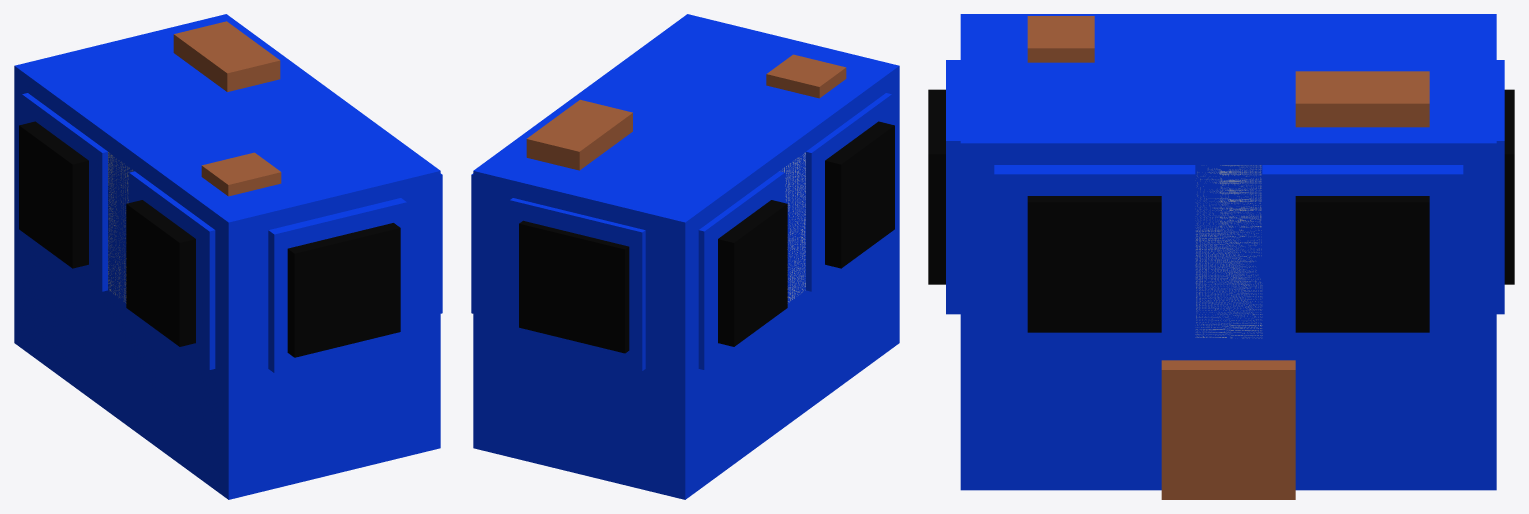
File: SmallHouseCube.fbx
The picture shows the model from 3 angles, left to right: view 1: azimuth 30°, elevation 25°; view 2: azimuth 150°, elevation 25°; view 3: azimuth 270°, elevation 25°; orthographic projection. The views are drawn at different scales.
Visible parts, largest first — view 1: pCube2; view 2: pCube2; view 3: pCube2.
Boxes of the visible parts, <box> form: pCube2: <box>14,14,442,499</box>; pCube2: <box>471,14,899,499</box>; pCube2: <box>928,14,1514,499</box>.
Size of the model in its own units: 49 by 53.39 by 76.57.
